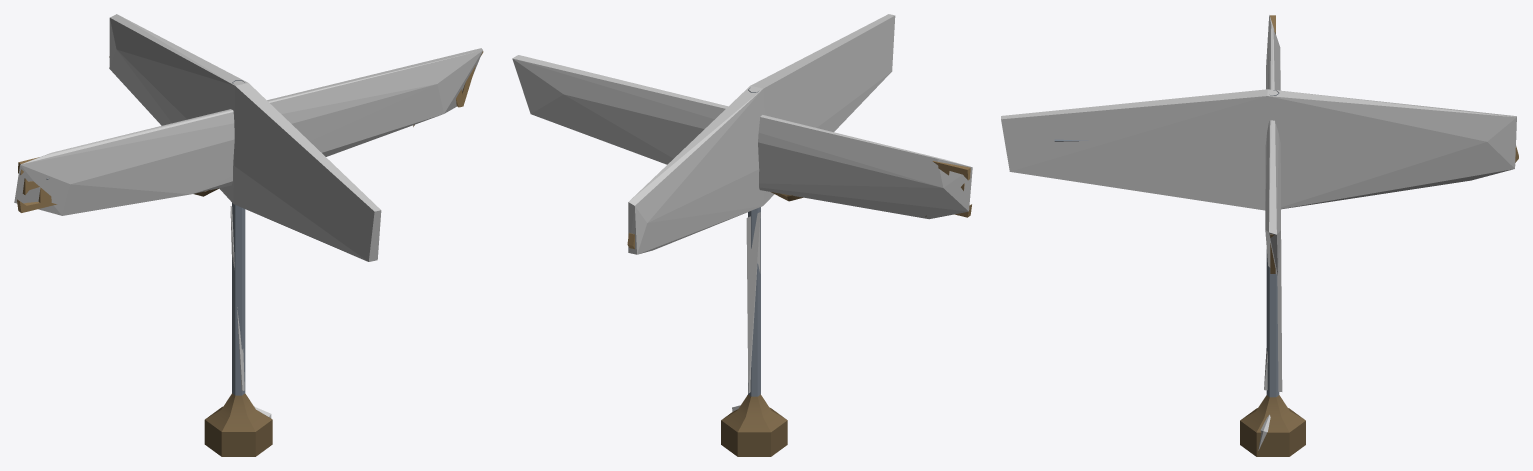
The model's file is SM_Prop_Weather_Vane_01.fbx.
3 renders of one model, left to right at view 1: azimuth 30°, elevation 25°; view 2: azimuth 150°, elevation 25°; view 3: azimuth 270°, elevation 25°, orthographic. The views are drawn at different scales.
Visible parts, largest first — view 1: SM_Prop_Weather_Vane_01_ConvexHulls, SM_Prop_Weather_Vane_01; view 2: SM_Prop_Weather_Vane_01_ConvexHulls, SM_Prop_Weather_Vane_01; view 3: SM_Prop_Weather_Vane_01_ConvexHulls, SM_Prop_Weather_Vane_01.
Boxes of the visible parts, x1,y1,x2,y2 form: SM_Prop_Weather_Vane_01_ConvexHulls: [14, 14, 482, 418]; SM_Prop_Weather_Vane_01: [17, 51, 483, 456]; SM_Prop_Weather_Vane_01_ConvexHulls: [512, 14, 972, 411]; SM_Prop_Weather_Vane_01: [627, 87, 971, 456]; SM_Prop_Weather_Vane_01_ConvexHulls: [1001, 15, 1516, 450]; SM_Prop_Weather_Vane_01: [1054, 15, 1518, 456].
Bounding box in the file's own units: 214 × 212 × 159.
2 materials, 1 textured.
